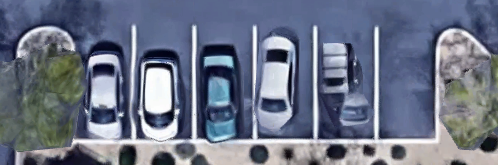Occupied: (73, 24, 134, 140), (315, 25, 376, 140), (133, 24, 194, 139), (195, 25, 255, 140), (256, 25, 315, 141)
Vacant: (377, 26, 436, 142)
